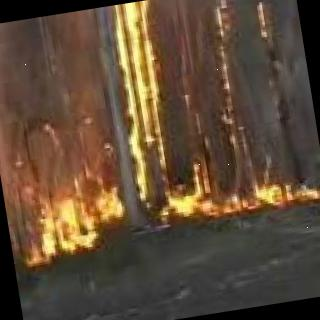fire: (116, 0, 212, 226), (12, 164, 124, 266), (220, 161, 320, 212)
